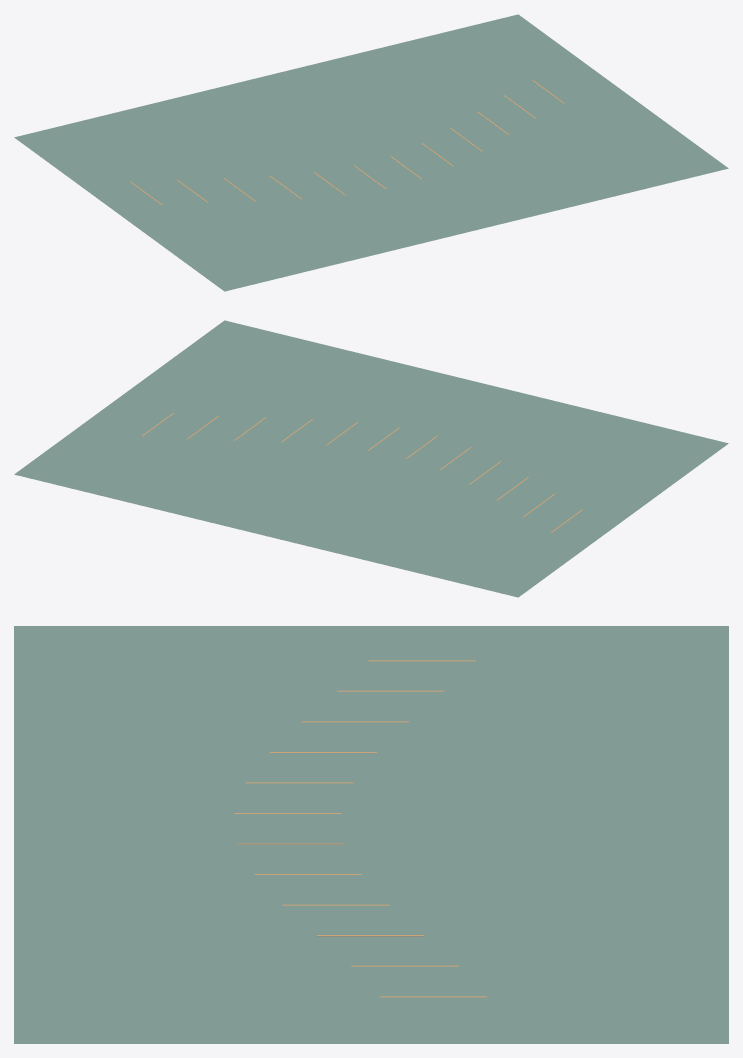
The model's file is 293_L120_L28_LayerReference.glb.
3 views of the same model, one above another, from view 1: azimuth 30°, elevation 25°; view 2: azimuth 150°, elevation 25°; view 3: azimuth 270°, elevation 25° (orthographic). The views are drawn at different scales.
Parts seen in each view (by area): view 1: 0000__PSMAT__dielectric; view 2: 0000__PSMAT__dielectric; view 3: 0000__PSMAT__dielectric.
Boxes of the visible parts, x1,y1,x2,y2 form: 0000__PSMAT__dielectric: (14, 14, 728, 291); 0000__PSMAT__dielectric: (14, 320, 728, 597); 0000__PSMAT__dielectric: (14, 626, 728, 1043).
Size of the model in its own units: 0.506 by 5.2e-05 by 0.366.
